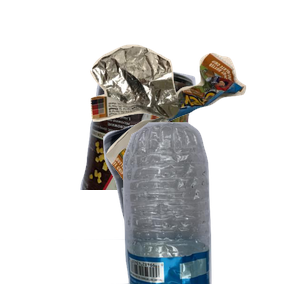glass: (37, 120, 231, 300)
metal: (78, 63, 266, 243)
plastic: (111, 120, 300, 300)
trash: (88, 42, 300, 219)
